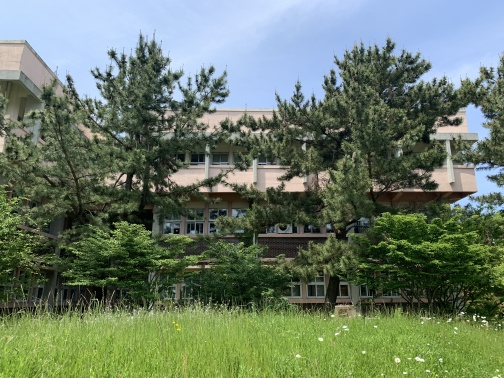College Of Education: (1, 43, 476, 312)
